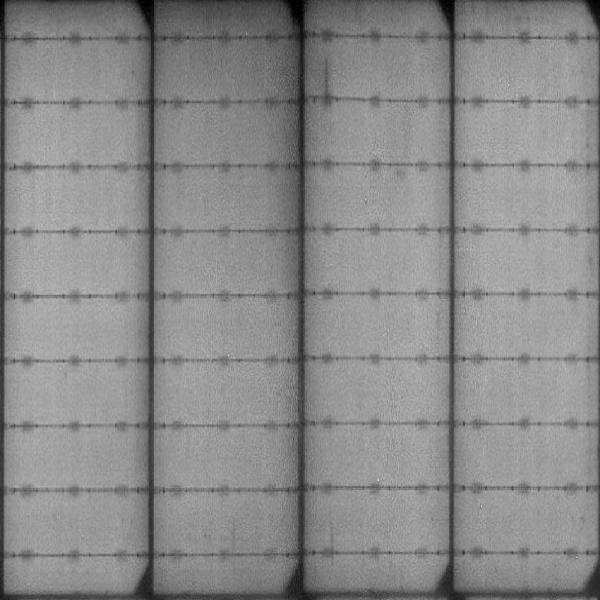scratch: (323, 58, 338, 99)
